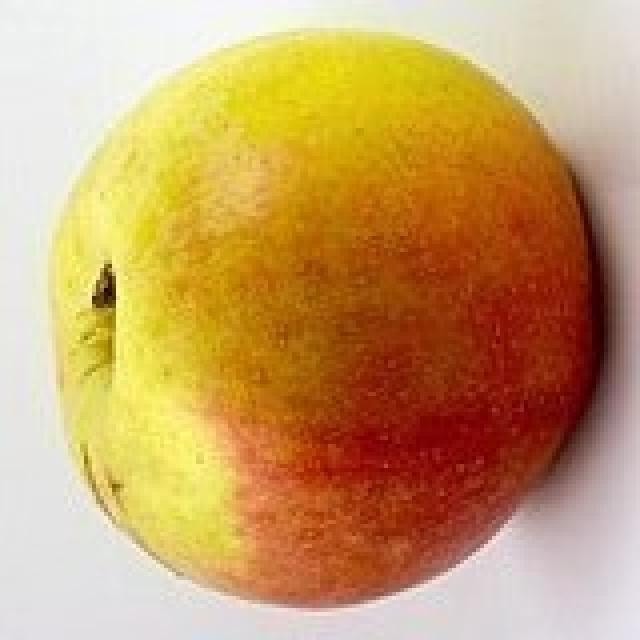75-_ripeness: (46, 27, 599, 612)
